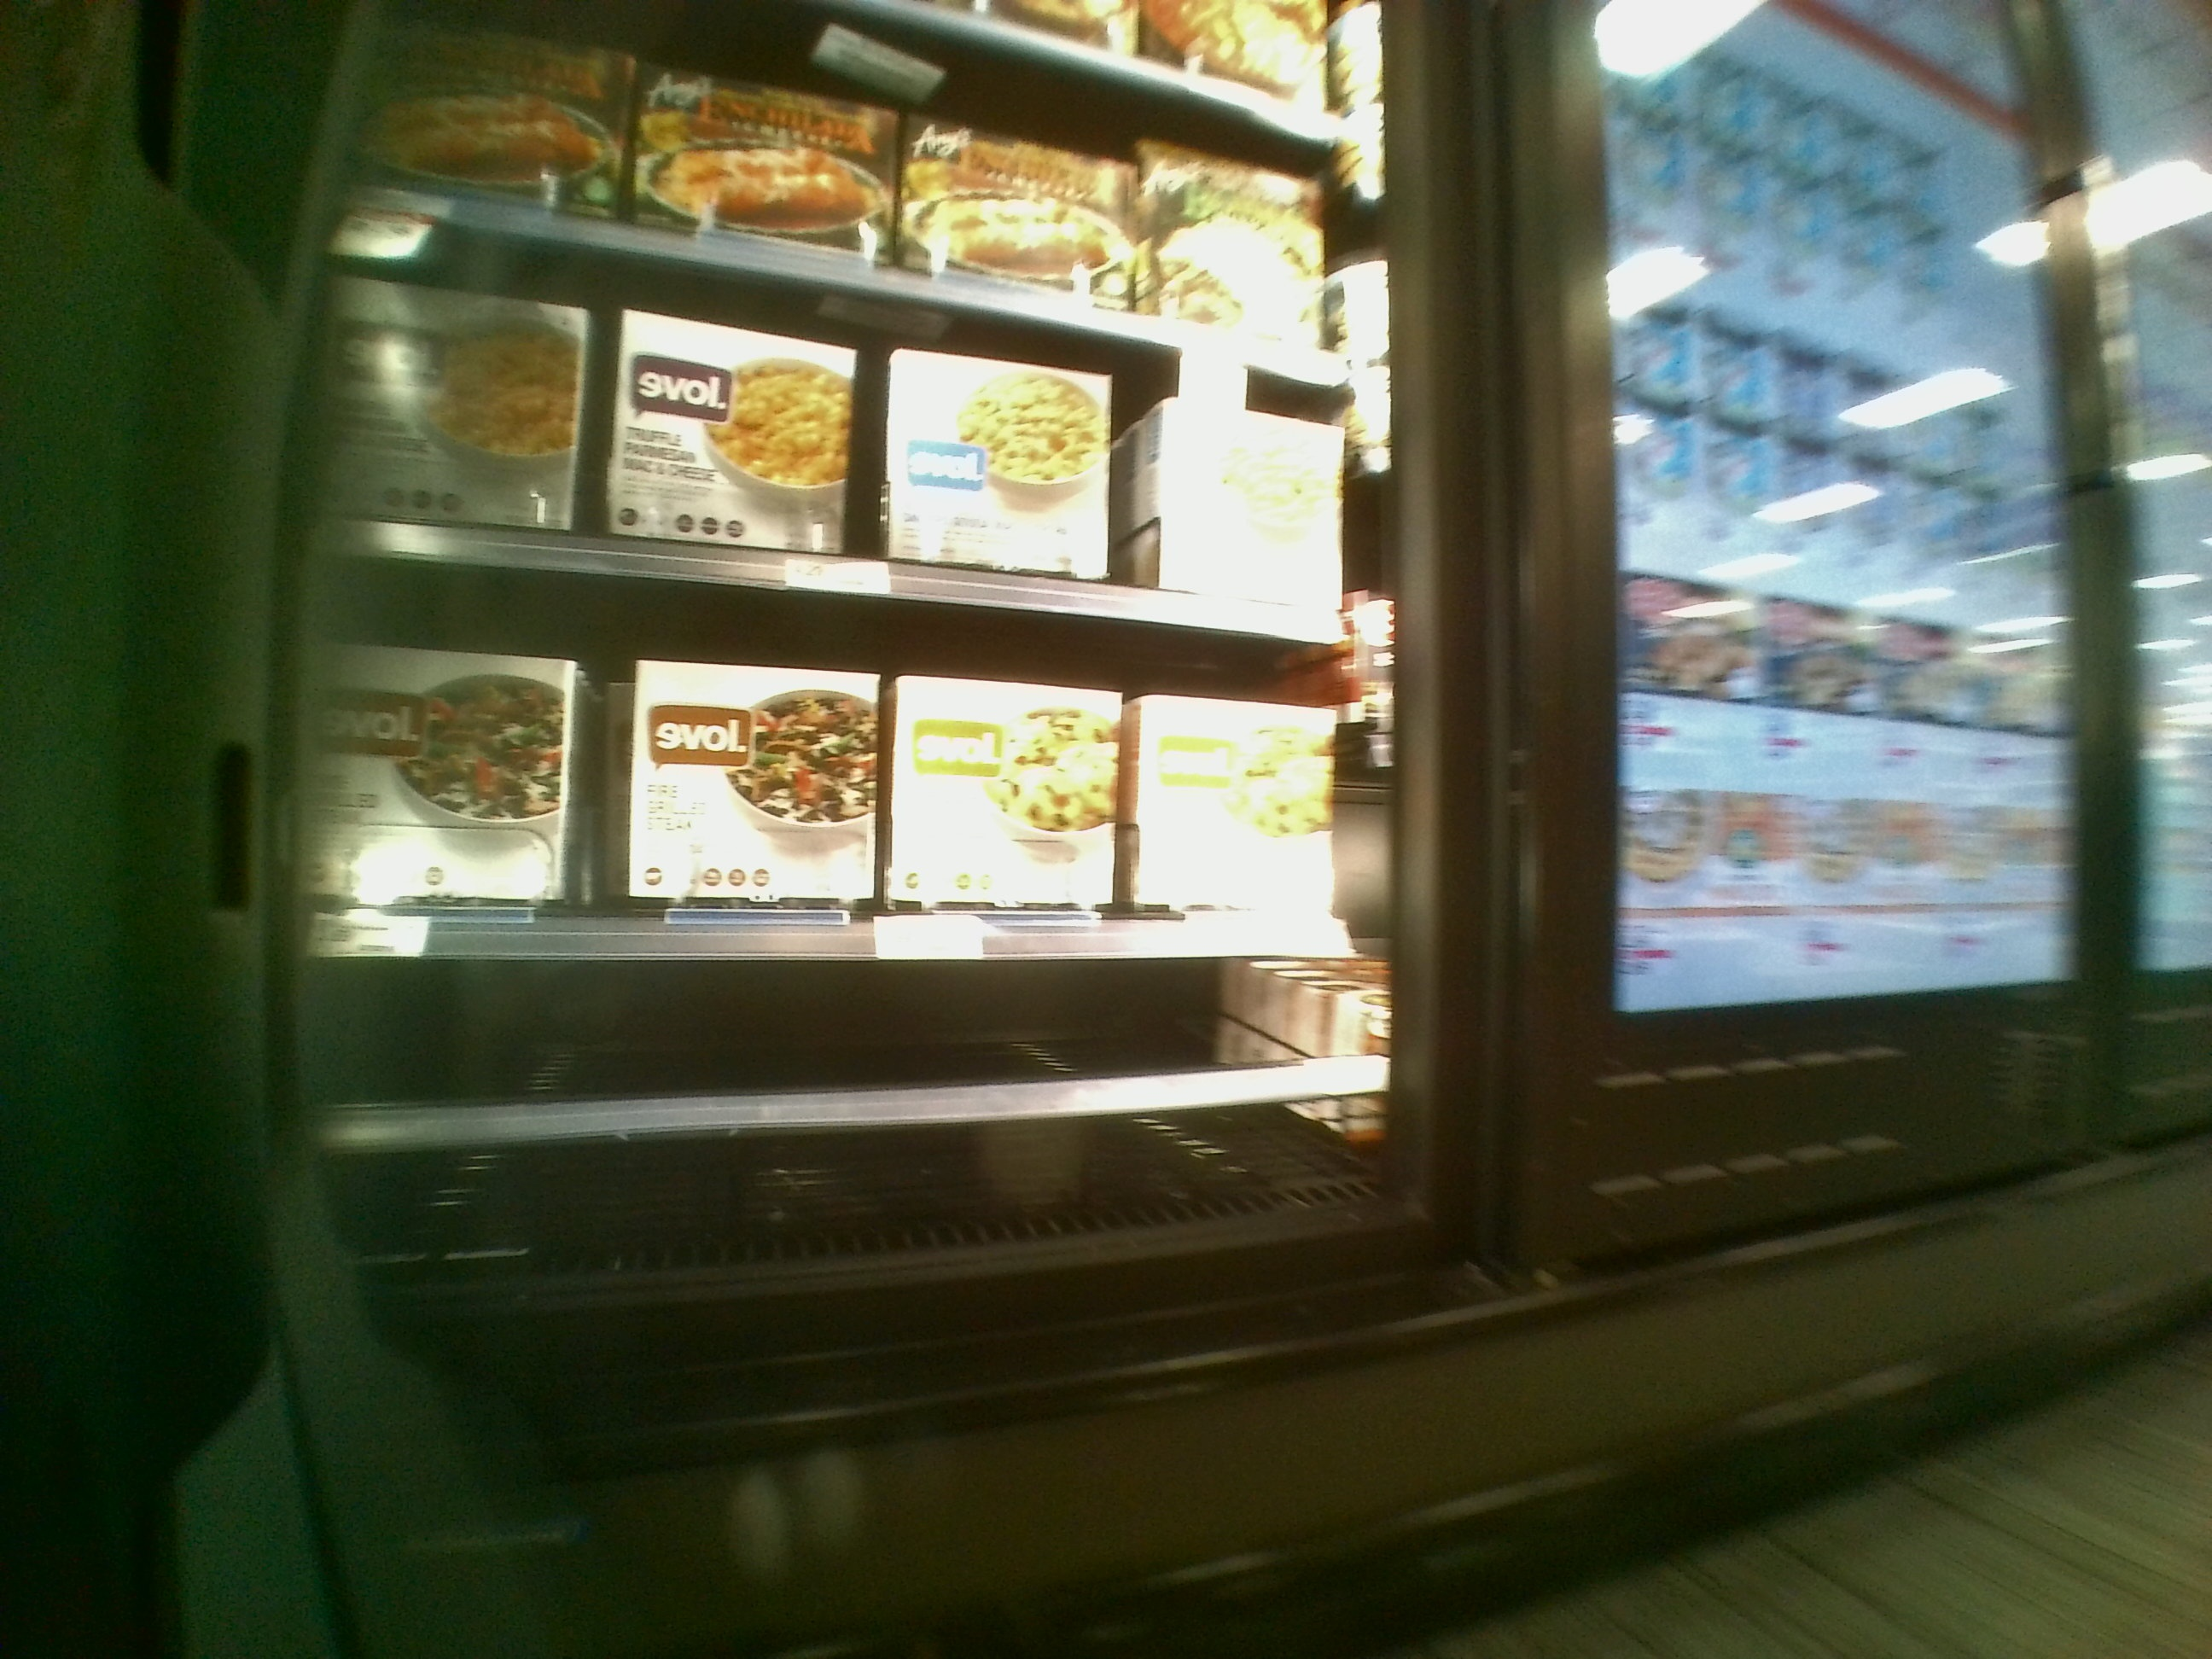shelf: (300, 612, 1379, 962), (308, 307, 1378, 617), (334, 955, 1390, 1232)
